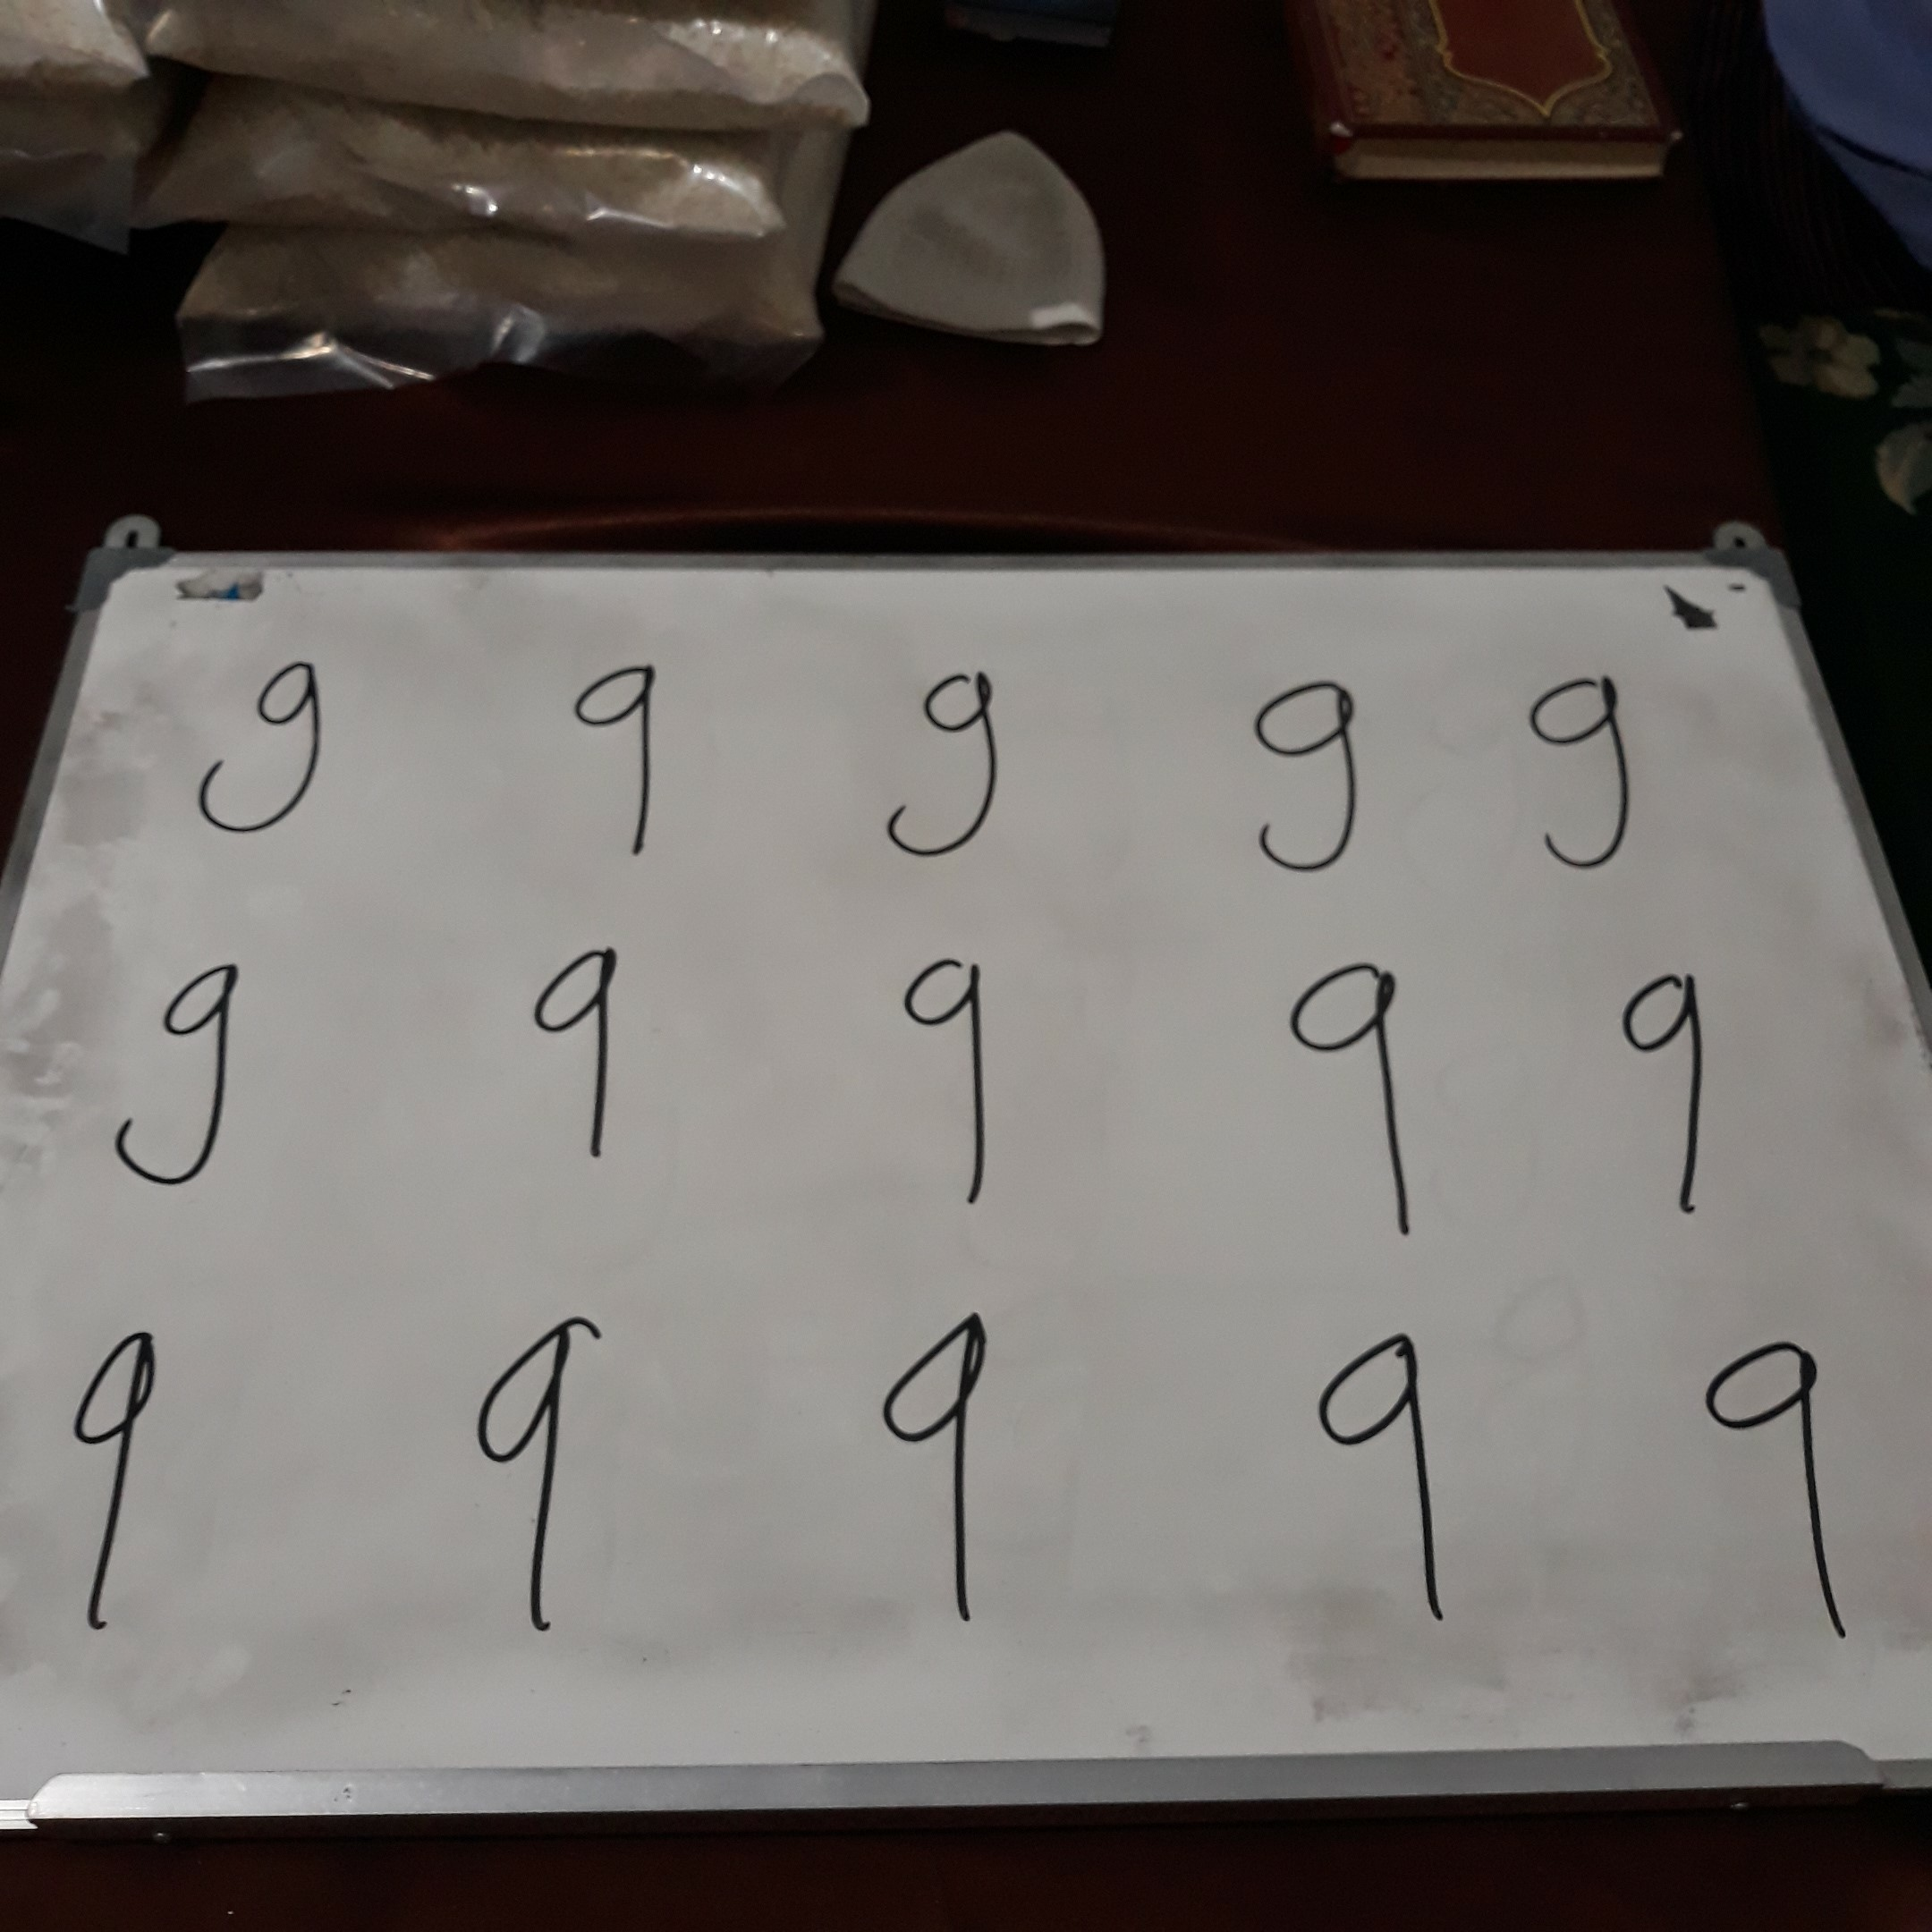num9: (1691, 1320, 1869, 1654), (1302, 1318, 1487, 1631), (458, 1305, 621, 1650), (860, 1309, 1021, 1650), (85, 926, 265, 1205), (1275, 945, 1431, 1244), (886, 938, 1016, 1216), (59, 1316, 166, 1647), (1607, 946, 1724, 1225), (870, 648, 1016, 868), (513, 933, 638, 1179), (189, 649, 342, 843), (1238, 663, 1372, 880), (1521, 663, 1644, 888), (554, 657, 679, 873)
